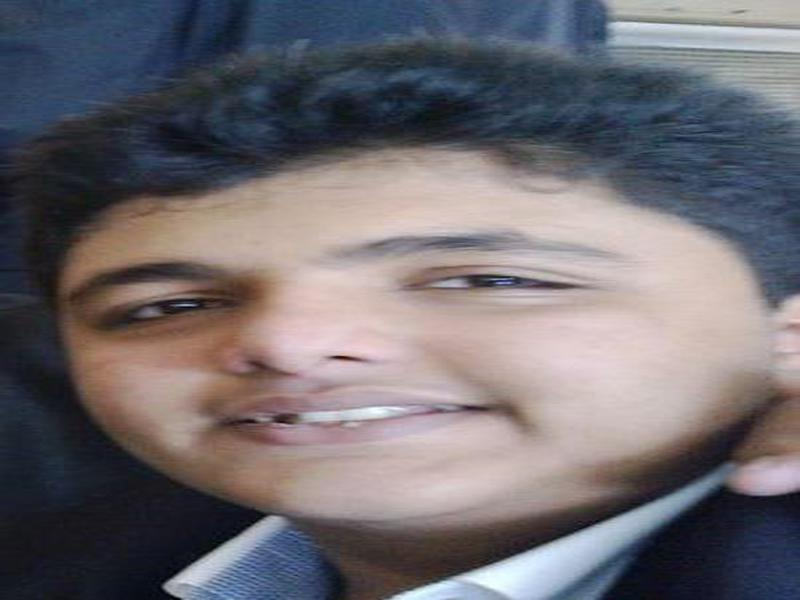without_mask: (51, 174, 734, 533)
